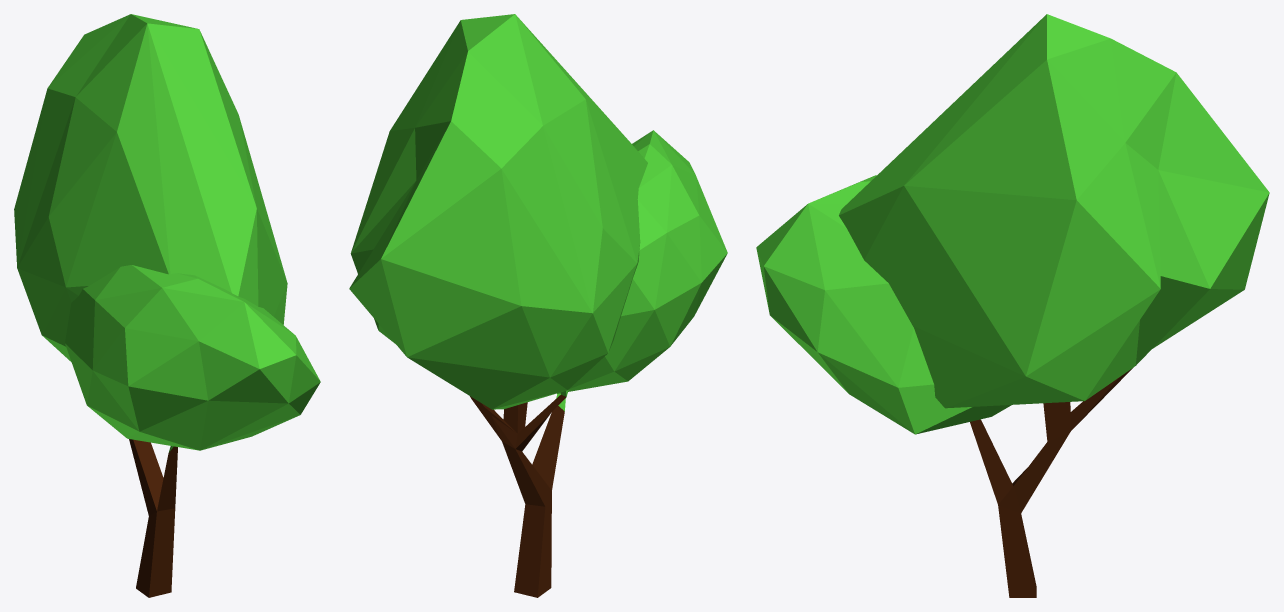
Rendered from pgfirsttree 1.fbx.
The picture shows the model from 3 angles, left to right: view 1: azimuth 30°, elevation 25°; view 2: azimuth 150°, elevation 25°; view 3: azimuth 270°, elevation 25°; orthographic projection. The views are drawn at different scales.
Parts seen in each view (by area): view 1: Cube; view 2: Cube; view 3: Cube.
Boxes of the visible parts, <box> form: Cube: <box>14,14,320,597</box>; Cube: <box>349,14,727,597</box>; Cube: <box>756,14,1269,597</box>.
Size of the model in its own units: 236 by 510 by 408.
